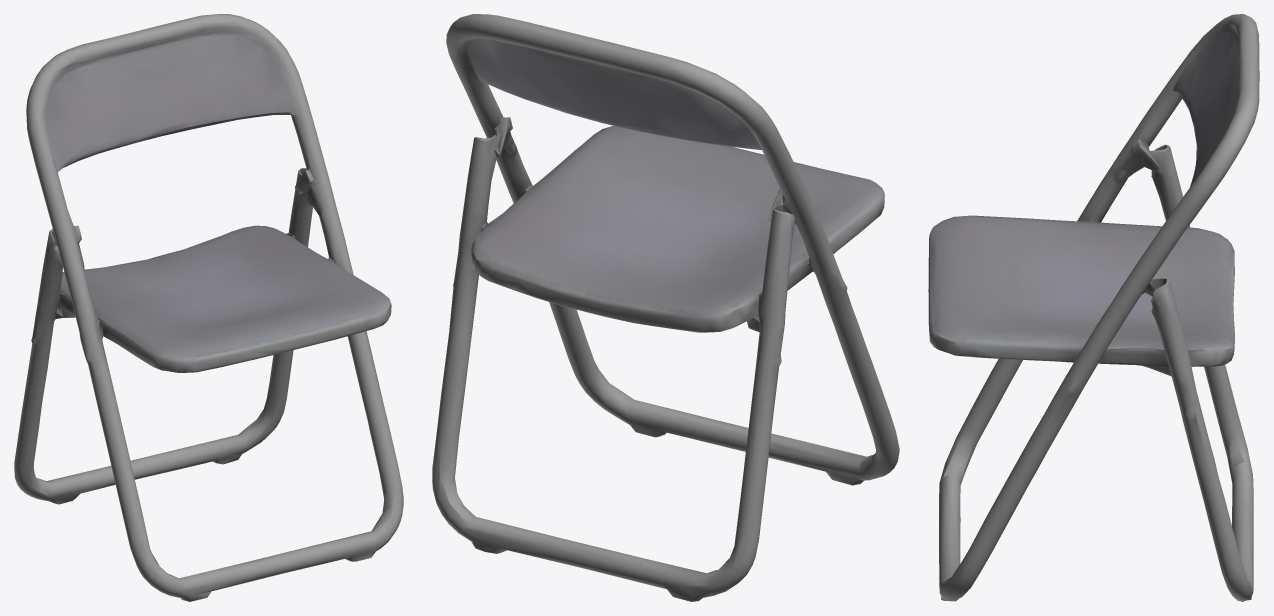
The model's file is pipechair.glb.
The picture shows the model from 3 angles, left to right: view 1: azimuth 30°, elevation 25°; view 2: azimuth 150°, elevation 25°; view 3: azimuth 270°, elevation 25°; orthographic projection. The views are drawn at different scales.
Visible parts, largest first — view 1: pipechair; view 2: pipechair; view 3: pipechair.
Boxes of the visible parts, x1,y1,x2,y2 form: pipechair: (14,14,403,601); pipechair: (432,14,899,601); pipechair: (928,14,1259,601).
Size of the model in its own units: 0.5103 by 0.8 by 0.4855.
Materials: 1 (1 with a texture image).
